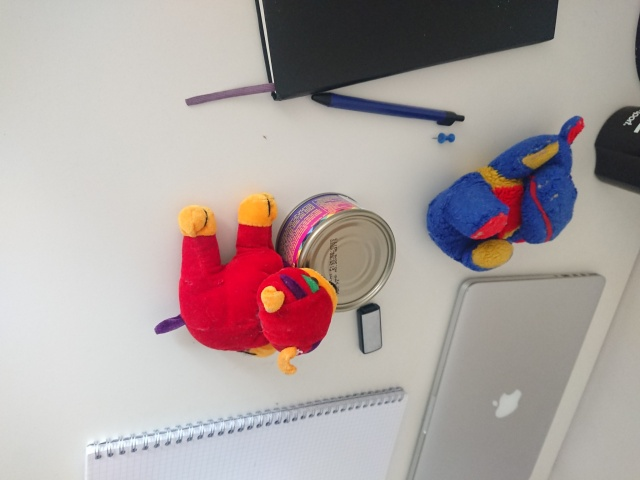Giana Tuna Salad Mexico 185g: (273, 188, 400, 316)
